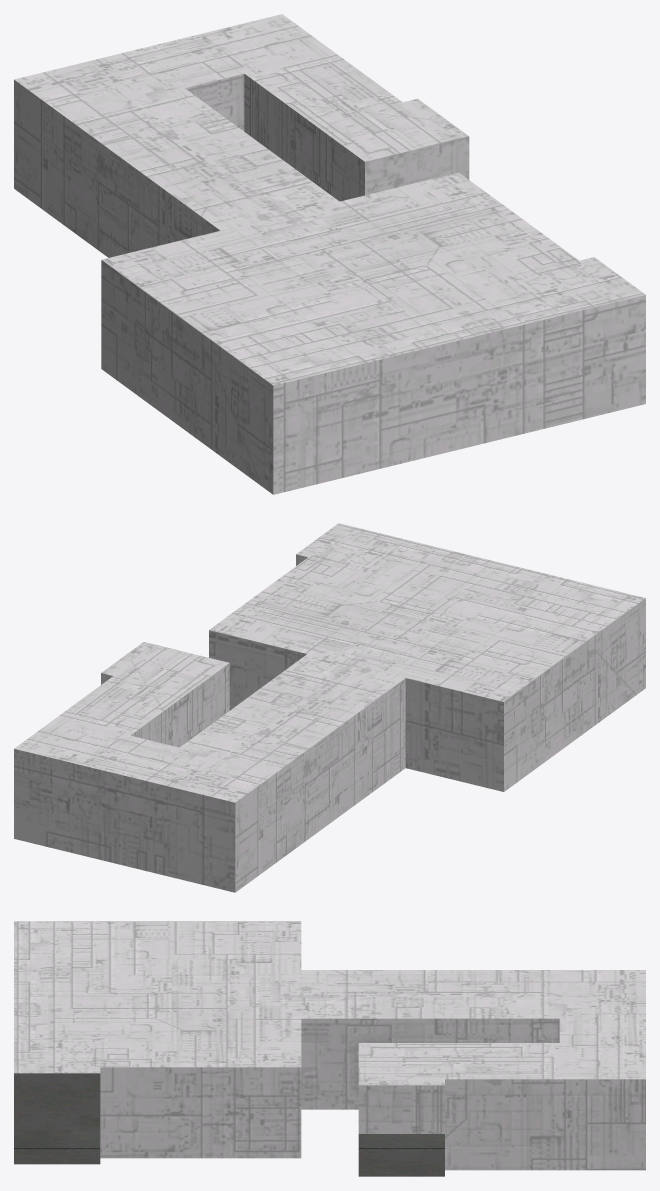
File: thm_spc_star_destroyer_s01_r45_cooling_mesh_r45.fbx
3 views of the same model, one above another, from view 1: azimuth 30°, elevation 25°; view 2: azimuth 150°, elevation 25°; view 3: azimuth 270°, elevation 25° (orthographic). The views are drawn at different scales.
Parts seen in each view (by area): view 1: mesh_node; view 2: mesh_node; view 3: mesh_node.
Boxes of the visible parts, left/top/right/bottom form: mesh_node: left=14, top=14, right=645, bottom=494; mesh_node: left=14, top=523, right=645, bottom=892; mesh_node: left=14, top=921, right=645, bottom=1176.
Bounding box in the file's own units: 13.5 × 3.5 × 22.
2 materials, 2 textured.
